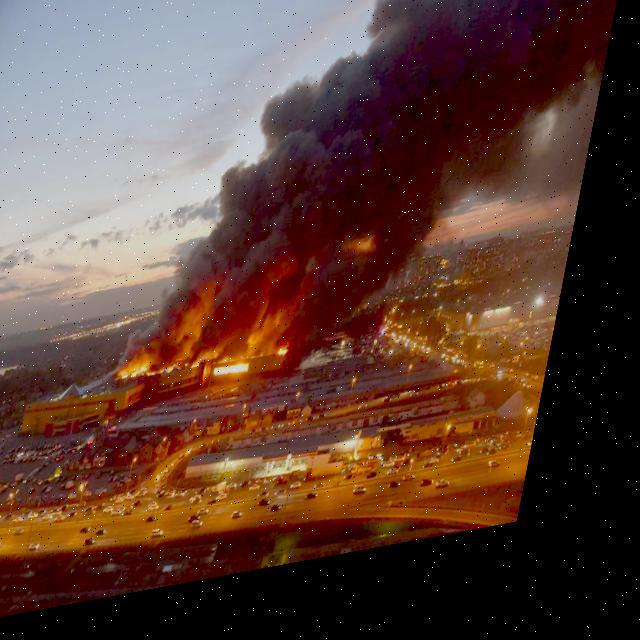Fire: (134, 366, 196, 391), (224, 368, 268, 392), (293, 356, 308, 369)
